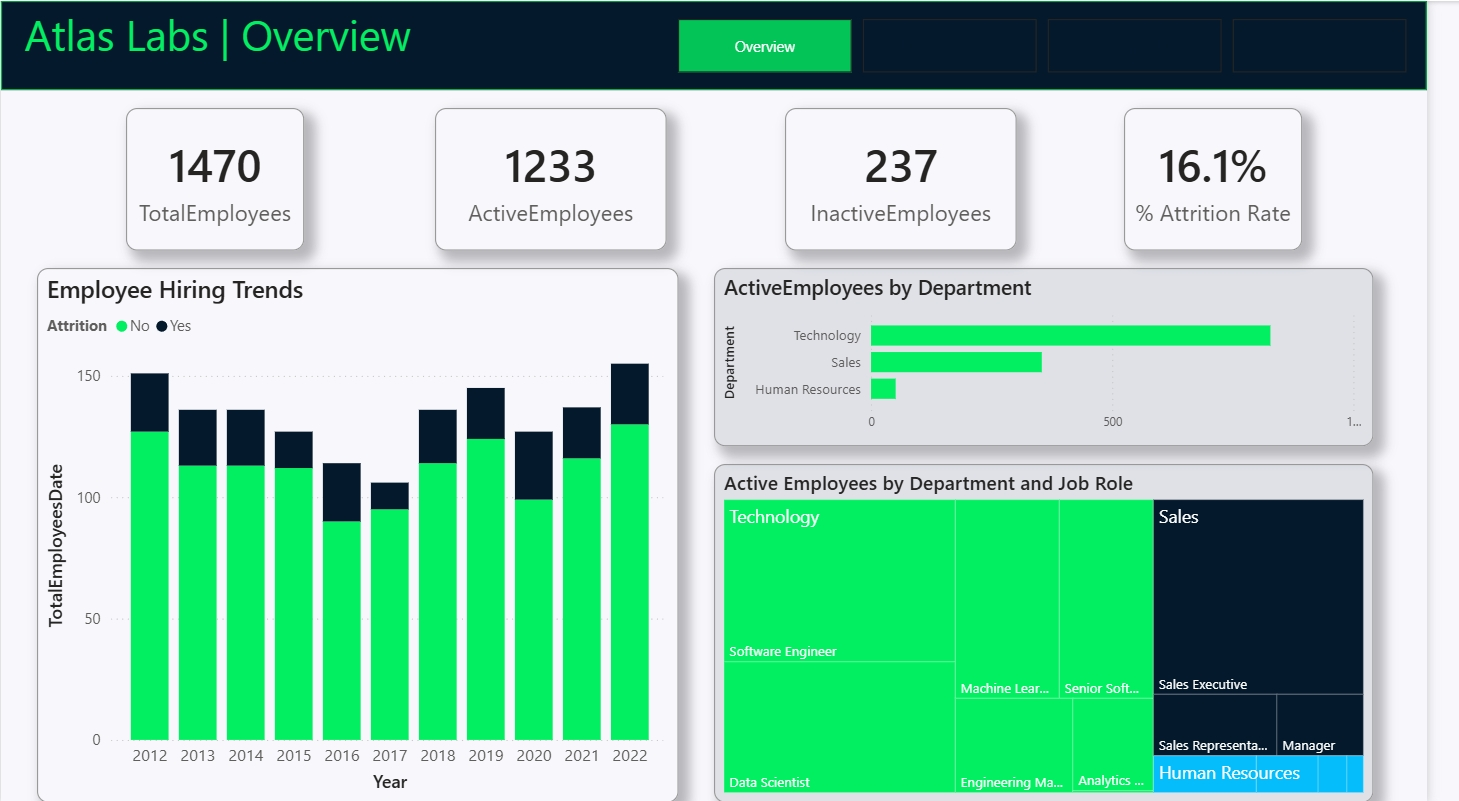

Layout of this report page (visuals, bound fields, positions):
{"tool":"powerbi","page":{"name":"Overview","canvas":[1280,720],"ordinal":0},"visuals":[{"type":"card","fields":{"Values":["DimEmployee.TotalEmployees"]},"box":[112,96,160,128],"z":0},{"type":"card","fields":{"Values":["Table_Measures.ActiveEmployees"]},"box":[389.3,96,208,128],"z":1000},{"type":"card","fields":{"Values":["Table_Measures.InactiveEmployees"]},"box":[704,96,208,128],"z":2000},{"type":"card","fields":{"Values":["Table_Measures.% Attrition Rate"]},"box":[1008,96,160,128],"z":3000},{"type":"columnChart","title":"Employee Hiring Trends","fields":{"Y":["Table_Measures.TotalEmployeesDate"],"Category":["DimDate.Date.Variation.Date Hierarchy.Year"],"Series":["DimEmployee.Attrition"]},"box":[32,240,576,480],"z":4000},{"type":"clusteredBarChart","fields":{"Category":["DimEmployee.Department"],"Y":["Table_Measures.ActiveEmployees"]},"box":[640,240,592,160],"z":5000},{"type":"treemap","title":"Active Employees by Department and Job Role","fields":{"Group":["DimEmployee.Department"],"Values":["Table_Measures.ActiveEmployees"],"Details":["DimEmployee.JobRole"]},"box":[640,416,592,304],"z":6000},{"type":"shape","box":[0,0,1280,80],"z":7000},{"type":"textbox","box":[16,0,800,80],"z":8000},{"type":"pageNavigator","box":[608,16,656,48],"z":9000}]}

Visuals, with their boxes in screenshot pixels (x1, y1, x2, y2), scaled from the page's 1280x720 canvas onto the 1459x801 screenshot:
card - DimEmployee.TotalEmployees: box(128, 107, 310, 249)
card - Table_Measures.ActiveEmployees: box(444, 107, 681, 249)
card - Table_Measures.InactiveEmployees: box(802, 107, 1040, 249)
card - Table_Measures.% Attrition Rate: box(1149, 107, 1331, 249)
"Employee Hiring Trends" columnChart: box(36, 267, 693, 800)
clusteredBarChart - DimEmployee.Department x Table_Measures.ActiveEmployees: box(730, 267, 1404, 445)
"Active Employees by Department and Job Role" treemap: box(730, 463, 1404, 800)
shape: box(0, 0, 1458, 89)
textbox: box(18, 0, 930, 89)
pageNavigator: box(693, 18, 1441, 71)
